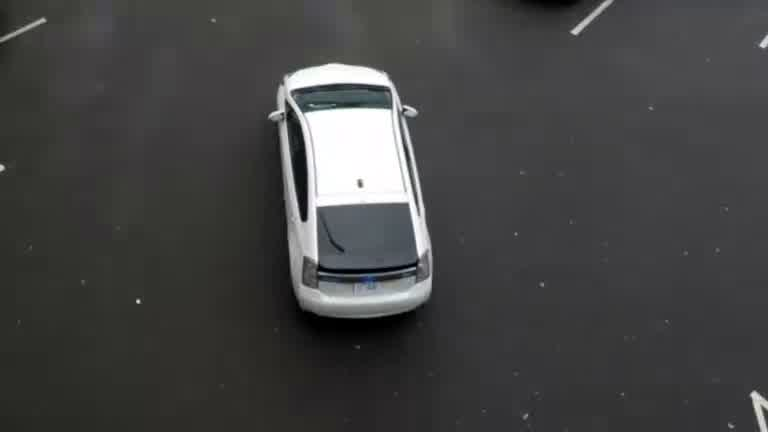car: (264, 47, 454, 332)
